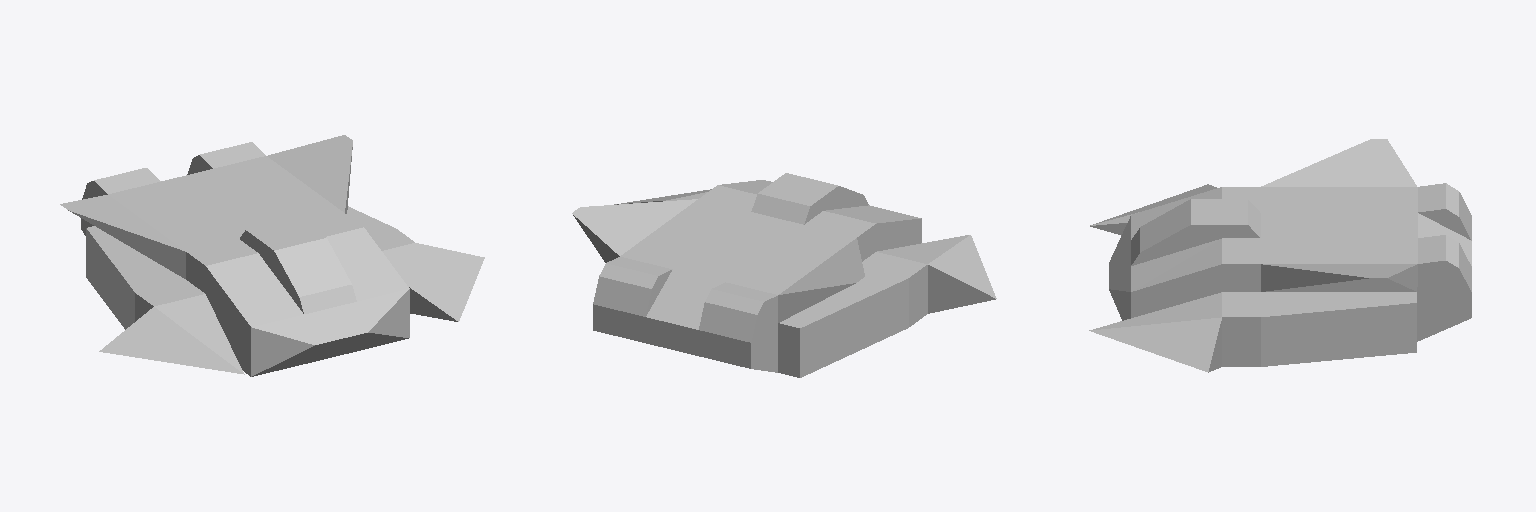
The picture shows the model from 3 angles: view 1: azimuth 30°, elevation 25°; view 2: azimuth 150°, elevation 25°; view 3: azimuth 270°, elevation 25°; orthographic projection.
Parts seen in each view (by area): view 1: Box01_sep5; view 2: Box01_sep5; view 3: Box01_sep5.
Part boxes in pixels (x1,y1,x2,y2): Box01_sep5: (60,135,484,376); Box01_sep5: (572,173,996,377); Box01_sep5: (1089,139,1471,372).
Size of the model in its own units: 24.37 by 5.7 by 20.93.